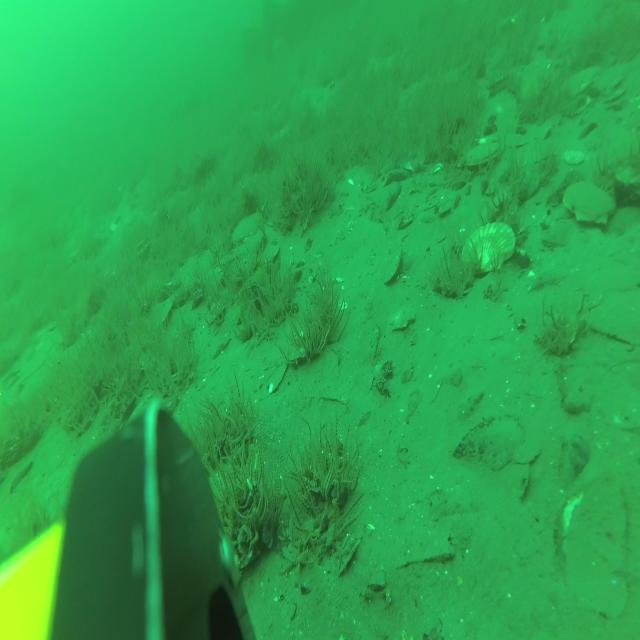scallop: (459, 217, 517, 278), (561, 175, 619, 229), (458, 137, 504, 171), (564, 62, 598, 99), (232, 209, 266, 246), (387, 301, 418, 334)
